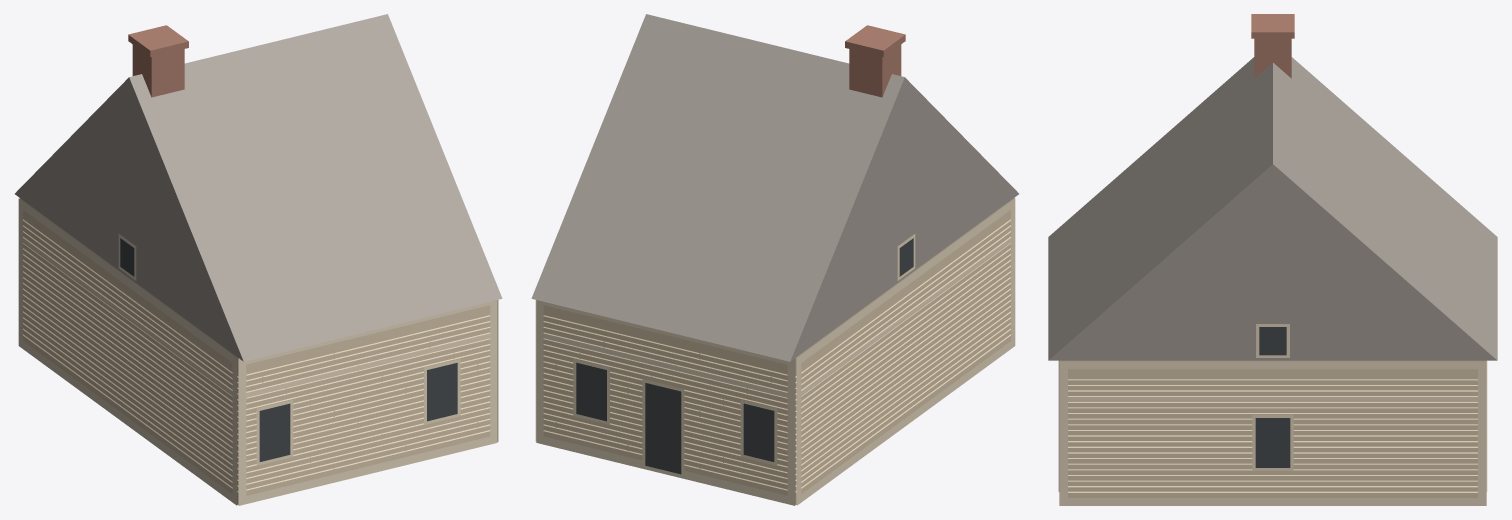
File: recon_1835_south_d6_031__inferred_1835.glb
3 renders of one model, left to right at view 1: azimuth 30°, elevation 25°; view 2: azimuth 150°, elevation 25°; view 3: azimuth 270°, elevation 25°, orthographic. The views are drawn at different scales.
Parts seen in each view (by area): view 1: recon_1835_south_d6_031__inferred_1835; view 2: recon_1835_south_d6_031__inferred_1835; view 3: recon_1835_south_d6_031__inferred_1835.
Boxes of the visible parts, x1,y1,x2,y2 form: recon_1835_south_d6_031__inferred_1835: (15, 14, 502, 505); recon_1835_south_d6_031__inferred_1835: (531, 14, 1018, 505); recon_1835_south_d6_031__inferred_1835: (1048, 14, 1497, 505).
Bounding box in the file's own units: 6.69 × 9.27 × 10.13.
